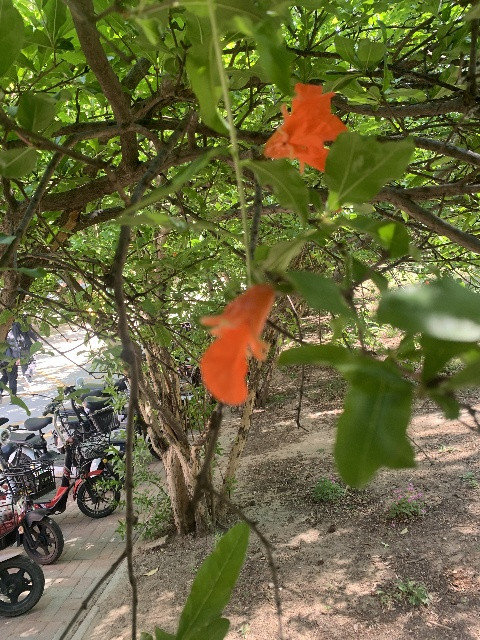bud: (331, 206, 342, 212)
flower: (199, 283, 274, 405), (263, 82, 347, 174)
